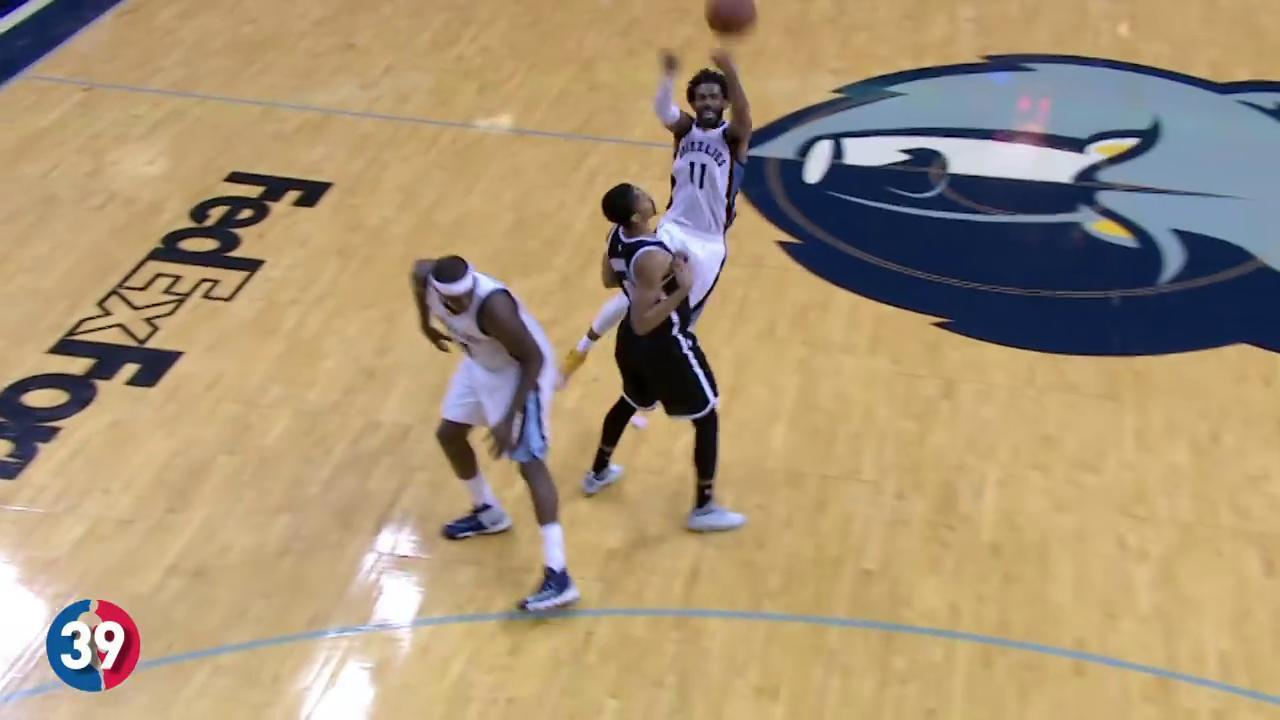ball: (701, 0, 761, 44)
human: (546, 38, 754, 434), (409, 250, 584, 620), (577, 174, 749, 536)
